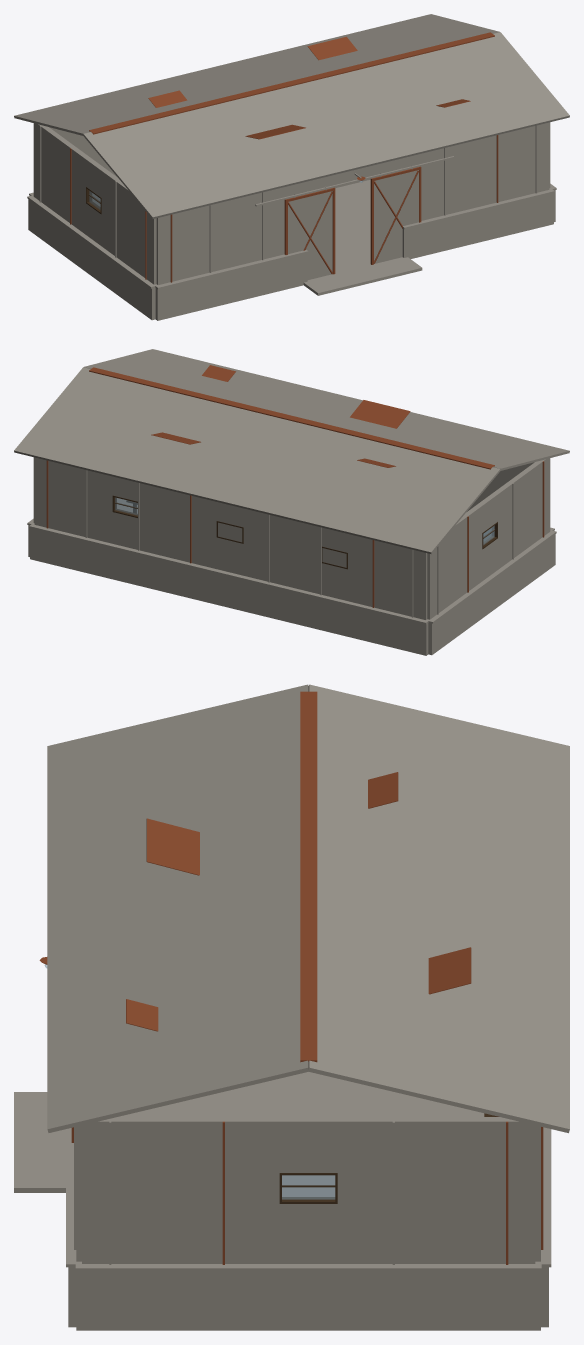
The model's file is rural-warehouse-or-supply.glb.
3 renders of one model, top to bottom at view 1: azimuth 30°, elevation 25°; view 2: azimuth 150°, elevation 25°; view 3: azimuth 270°, elevation 25°, orthographic. The views are drawn at different scales.
Parts seen in each view (by area): view 1: Mesh_RoofA, Mesh_RoofB, Mesh_WarehouseRoom_WallFront_R, Mesh_WarehouseRoom_WallFront_L, Mesh_BaseFrontR, Mesh_BaseFrontL, Mesh_WarehouseRoom_WallRight_L, Mesh_WarehouseRoom_WallRight_R, Mesh_BaseRight, Mesh_DoorL_Plate, Mesh_DoorR_Plate, Mesh_WarehouseRoom_Floor (+12 smaller); view 2: Mesh_RoofB, Mesh_WarehouseRoom_WallBack_R, Mesh_RoofA, Mesh_BaseBack, Mesh_WarehouseRoom_WallBack_L, Mesh_WarehouseRoom_WallRight_R, Mesh_WarehouseRoom_WallRight_L, Mesh_BaseRight, Mesh_RidgeCap, Mesh_LedgeBack, Mesh_RoofPatchR1, Mesh_LedgeRight (+5 smaller); view 3: Mesh_RoofB, Mesh_RoofA, Mesh_WarehouseRoom_WallLeft_R, Mesh_WarehouseRoom_WallLeft_L, Mesh_BaseLeft, Mesh_WarehouseRoom_Floor, Mesh_RidgeCap, Mesh_EntryRamp, Mesh_LedgeLeft, Mesh_WarehouseRoom_WallLeft_Sill, Mesh_WarehouseRoom_WallLeft_Lintel, Mesh_RoofPatchR1 (+8 smaller).
Boxes of the visible parts, x1,y1,x2,y2 form: Mesh_RoofA: (83, 32, 569, 219); Mesh_RoofB: (14, 14, 499, 135); Mesh_WarehouseRoom_WallFront_R: (156, 181, 306, 284); Mesh_WarehouseRoom_WallFront_L: (400, 122, 549, 220); Mesh_BaseFrontR: (155, 253, 307, 320); Mesh_BaseFrontL: (402, 193, 553, 258); Mesh_WarehouseRoom_WallRight_L: (33, 123, 90, 234); Mesh_WarehouseRoom_WallRight_R: (101, 169, 156, 284); Mesh_BaseRight: (28, 199, 155, 320); Mesh_DoorL_Plate: (374, 170, 418, 263); Mesh_DoorR_Plate: (288, 191, 332, 279); Mesh_WarehouseRoom_Floor: (335, 179, 370, 271); Mesh_RoofB: (14, 367, 500, 554); Mesh_WarehouseRoom_WallBack_R: (139, 483, 427, 619); Mesh_RoofA: (84, 349, 569, 470); Mesh_BaseBack: (30, 528, 428, 655); Mesh_WarehouseRoom_WallBack_L: (34, 457, 112, 543); Mesh_WarehouseRoom_WallRight_R: (493, 458, 550, 569); Mesh_WarehouseRoom_WallRight_L: (427, 504, 482, 619); Mesh_BaseRight: (428, 534, 555, 655); Mesh_RidgeCap: (89, 367, 494, 469); Mesh_LedgeBack: (29, 523, 429, 624); Mesh_RoofPatchR1: (350, 400, 410, 428); Mesh_LedgeRight: (428, 530, 556, 623); Mesh_RoofB: (308, 684, 569, 1133); Mesh_RoofA: (47, 684, 308, 1132); Mesh_WarehouseRoom_WallLeft_R: (82, 1117, 280, 1263); Mesh_WarehouseRoom_WallLeft_L: (337, 1117, 535, 1263); Mesh_BaseLeft: (76, 1271, 540, 1330); Mesh_WarehouseRoom_Floor: (118, 1072, 484, 1196); Mesh_RidgeCap: (300, 691, 317, 1062); Mesh_EntryRamp: (14, 1092, 65, 1192); Mesh_LedgeLeft: (75, 1262, 541, 1271); Mesh_WarehouseRoom_WallLeft_Sill: (280, 1204, 337, 1263); Mesh_WarehouseRoom_WallLeft_Lintel: (279, 1117, 338, 1172); Mesh_RoofPatchR1: (146, 818, 199, 875).
Bounding box in the file's own units: 16 × 5.24 × 9.81.
Materials: 2 (2 with a texture image).
